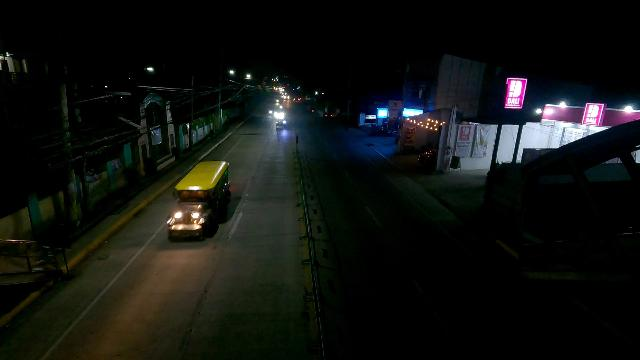car: (324, 109, 336, 117), (306, 105, 315, 113), (293, 96, 301, 102)
jeepney: (164, 160, 233, 241)
